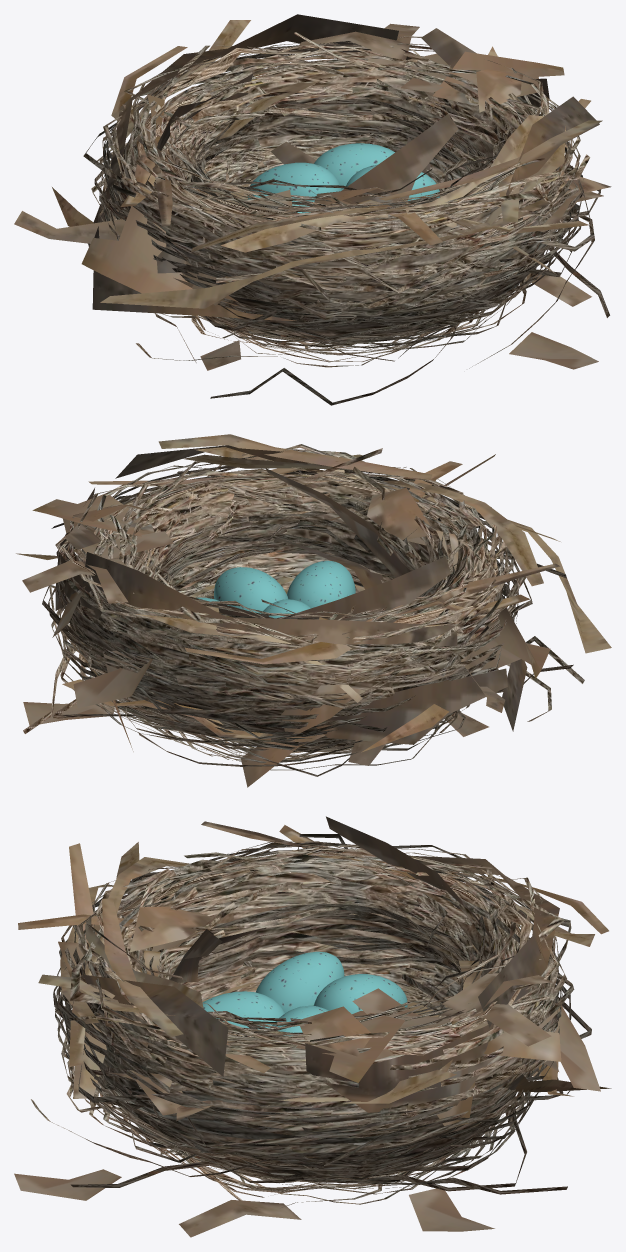
The model's file is nest.glb.
The picture shows the model from 3 angles, top to bottom: view 1: azimuth 30°, elevation 25°; view 2: azimuth 150°, elevation 25°; view 3: azimuth 270°, elevation 25°; orthographic projection. The views are drawn at different scales.
Parts seen in each view (by area): view 1: nest_nest_material_0, eggs_nest_material_0; view 2: nest_nest_material_0, eggs_nest_material_0; view 3: nest_nest_material_0, eggs_nest_material_0.
Boxes of the visible parts, bbox=[...] form: nest_nest_material_0: bbox=[14, 14, 611, 405]; eggs_nest_material_0: bbox=[247, 143, 439, 213]; nest_nest_material_0: bbox=[16, 434, 611, 787]; eggs_nest_material_0: bbox=[196, 560, 355, 618]; nest_nest_material_0: bbox=[14, 816, 611, 1237]; eggs_nest_material_0: bbox=[202, 951, 407, 1036].
Size of the model in its own units: 0.394 by 0.1511 by 0.3492.
Materials: 1 (1 with a texture image).
